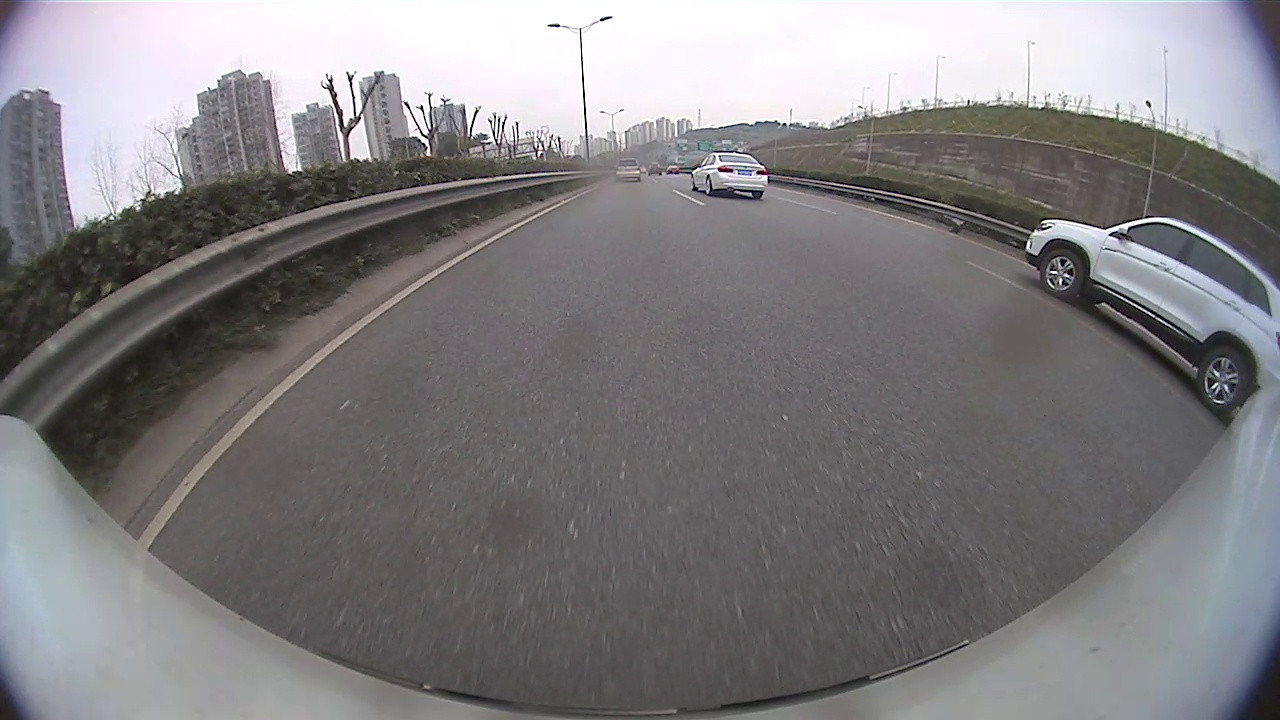car: (1023, 214, 1279, 415), (688, 149, 768, 200), (614, 156, 642, 182)
front: (1038, 247, 1082, 300)
rear: (1197, 346, 1253, 415)
